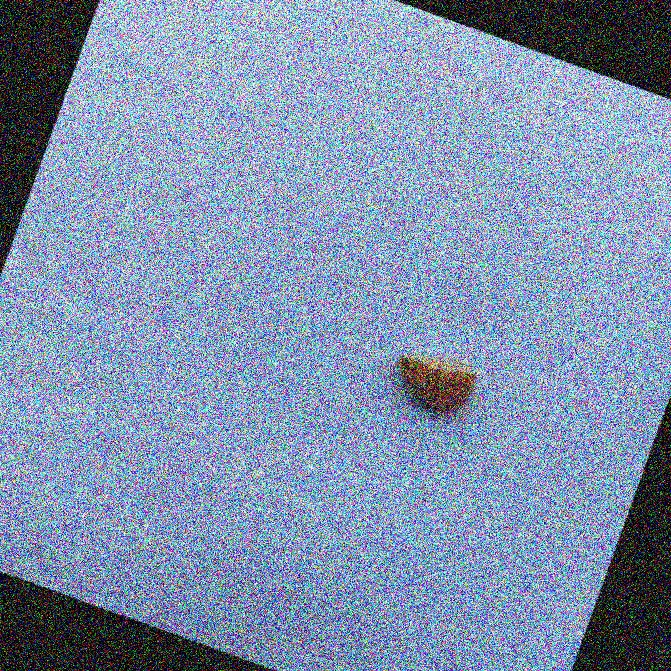grade4: (377, 335, 489, 429)
